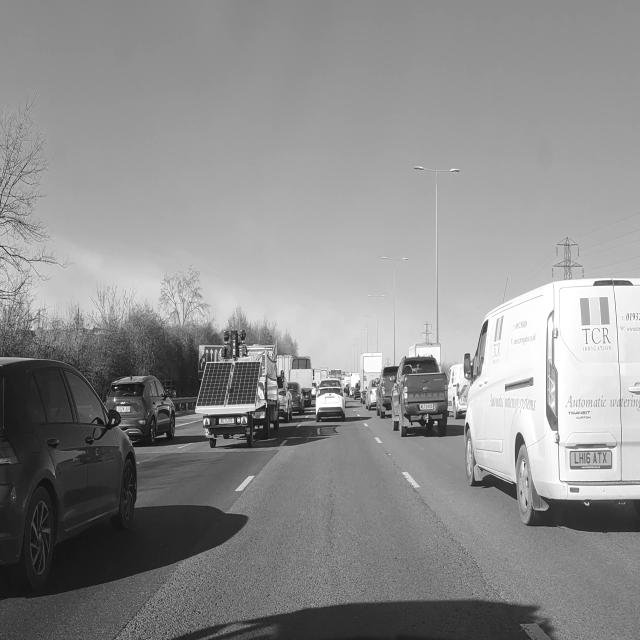car: (464, 279, 639, 525), (0, 358, 136, 589), (391, 356, 452, 437), (106, 376, 175, 445), (316, 381, 345, 421), (448, 364, 468, 419), (377, 367, 397, 418), (278, 377, 292, 423), (288, 383, 305, 414), (365, 379, 378, 410)
